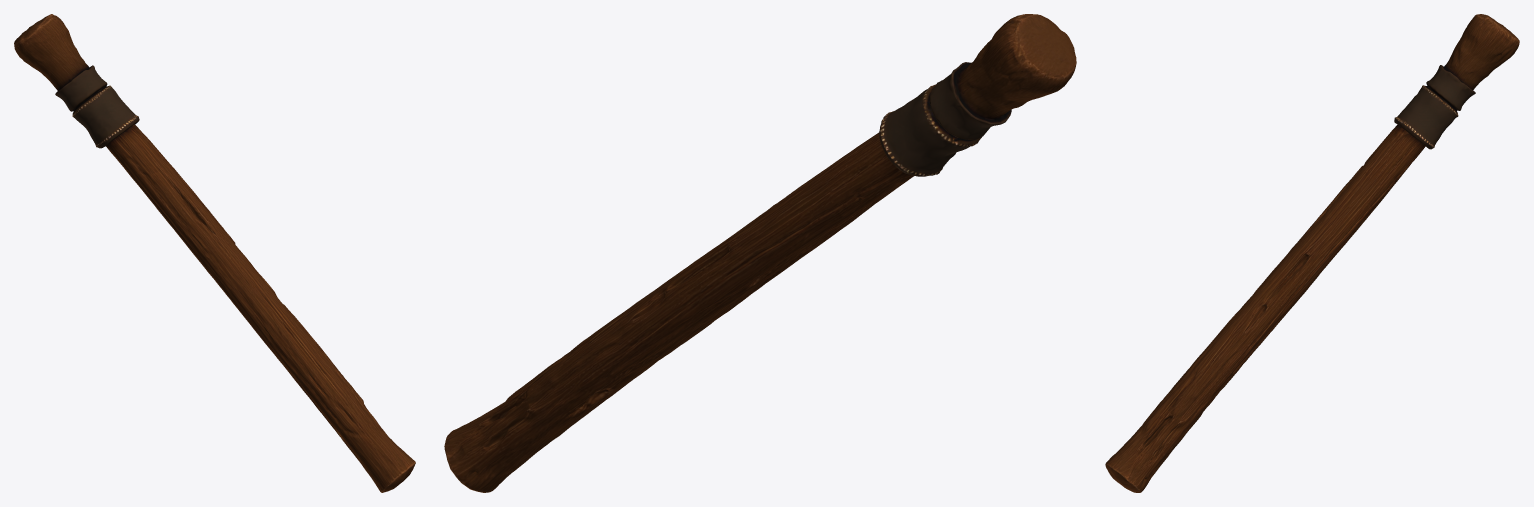
The model's file is staff-b.glb.
The picture shows the model from 3 angles, left to right: view 1: azimuth 30°, elevation 25°; view 2: azimuth 210°, elevation 25°; view 3: azimuth 270°, elevation 25°; orthographic projection. The views are drawn at different scales.
Parts seen in each view (by area): view 1: tripo_node_c84e08ce-70d9-4638-b6d5-610fe61a5cd6; view 2: tripo_node_c84e08ce-70d9-4638-b6d5-610fe61a5cd6; view 3: tripo_node_c84e08ce-70d9-4638-b6d5-610fe61a5cd6.
Boxes of the visible parts, x1,y1,x2,y2 form: tripo_node_c84e08ce-70d9-4638-b6d5-610fe61a5cd6: (14, 14, 415, 492); tripo_node_c84e08ce-70d9-4638-b6d5-610fe61a5cd6: (444, 14, 1076, 492); tripo_node_c84e08ce-70d9-4638-b6d5-610fe61a5cd6: (1105, 14, 1519, 492).
Bounding box in the file's own units: 0.5915 × 1 × 0.9571.
1 material, 1 textured.
